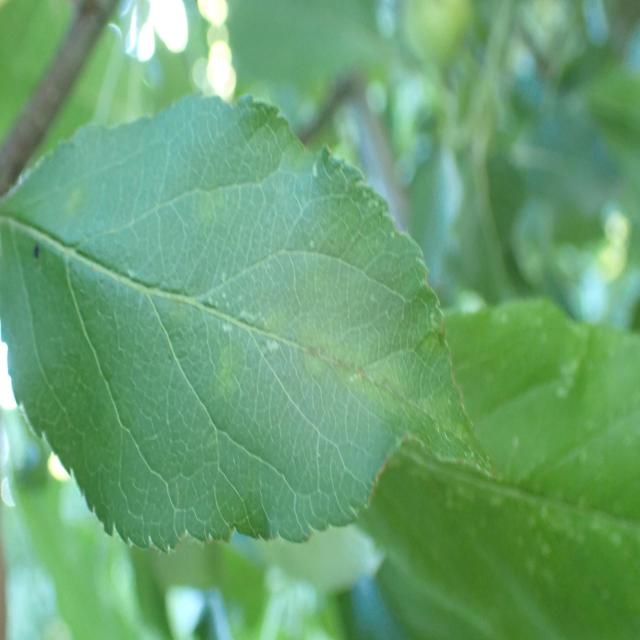scab: (29, 140, 453, 493)
